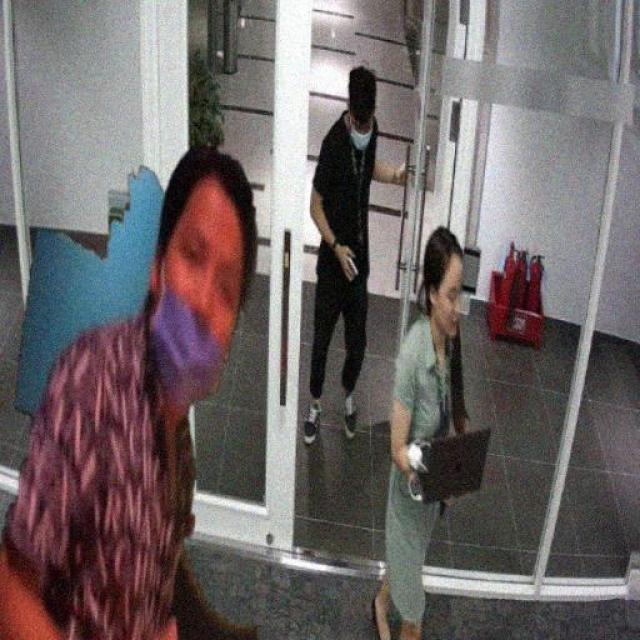hairnet: (153, 228, 239, 406)
